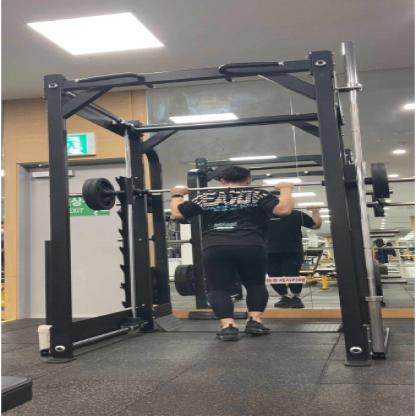smith machine: (43, 50, 393, 368)
